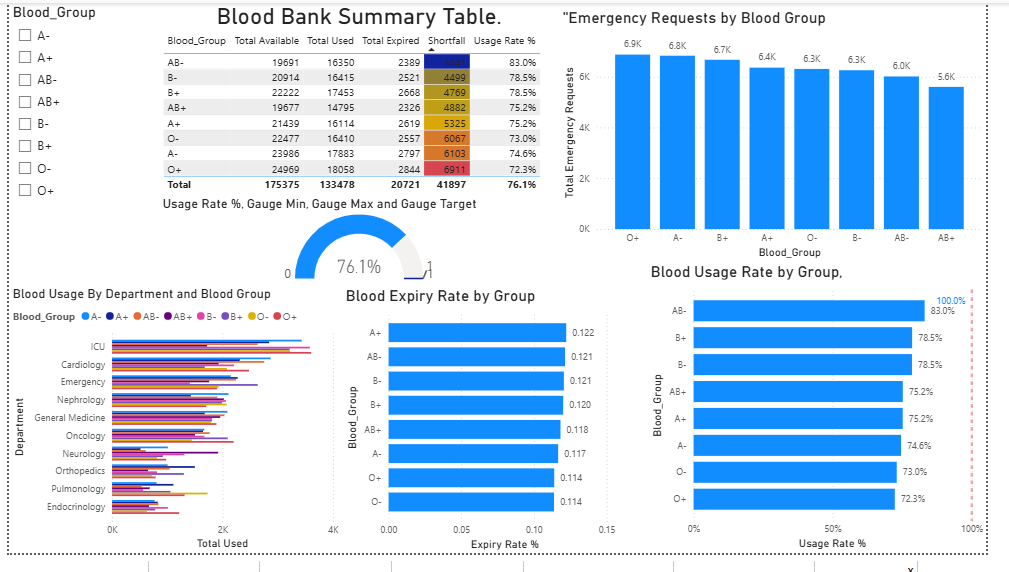

Layout of this report page (visuals, bound fields, positions):
{"tool":"powerbi","page":{"name":"Blood Bank","canvas":[1280,720],"ordinal":6},"visuals":[{"type":"clusteredBarChart","title":"Blood Usage Rate by Group,","fields":{"Category":["Healthcare_Master.Blood_Group"],"Y":["Healthcare_Master.Usage Rate %"]},"box":[834.8,339.6,445.2,381],"z":0},{"type":"clusteredBarChart","title":"Blood Expiry Rate by Group","fields":{"Category":["Healthcare_Master.Blood_Group"],"Y":["Healthcare_Master.Expiry Rate %"]},"box":[436.2,370.1,382.6,350.4],"z":1000},{"type":"clusteredColumnChart","title":"\"Emergency Requests by Blood Group","fields":{"Category":["Healthcare_Master.Blood_Group"],"Y":["Healthcare_Master.Total Emergency Requests"]},"box":[720.6,7.1,559.4,332.5],"z":2000},{"type":"tableEx","title":"Blood Bank Summary Table.","fields":{"Values":["Healthcare_Master.Blood_Group","Healthcare_Master.Total Available","Healthcare_Master.Total Used","Healthcare_Master.Total Expired","Healthcare_Master.Shortfall","Healthcare_Master.Usage Rate %"]},"box":[196.9,0,523.7,271.1],"z":3000},{"type":"slicer","title":"Blood_Group","fields":{"Values":["Healthcare_Master.Blood_Group"]},"box":[0,0,169.8,288.2],"z":4000},{"type":"gauge","fields":{"Y":["Healthcare_Master.Usage Rate %"],"MinValue":["Healthcare_Master.Gauge Min"],"MaxValue":["Healthcare_Master.Gauge Max"],"TargetValue":["Healthcare_Master.Gauge Target"]},"box":[196.6,252.1,523.8,118],"z":5000},{"type":"clusteredBarChart","title":"Blood Usage By Department and Blood Group","fields":{"Category":["Healthcare_Master.Department"],"Y":["Healthcare_Master.Total Used"],"Series":["Healthcare_Master.Blood_Group"]},"box":[0,370.1,436.2,350.4],"z":6000}]}

Visuals, with their boxes in screenshot pixels (x1, y1, x2, y2), scaled from the page's 1280x720 canvas onto the 1009x572 screenshot:
"Blood Usage Rate by Group," clusteredBarChart: 658/270/1008/571
"Blood Expiry Rate by Group" clusteredBarChart: 344/294/645/571
""Emergency Requests by Blood Group" clusteredColumnChart: 568/6/1008/270
"Blood Bank Summary Table." tableEx: 155/0/568/215
"Blood_Group" slicer: 0/0/134/229
gauge - Healthcare_Master.Usage Rate % x Healthcare_Master.Gauge Min: 155/200/568/294
"Blood Usage By Department and Blood Group" clusteredBarChart: 0/294/344/571
